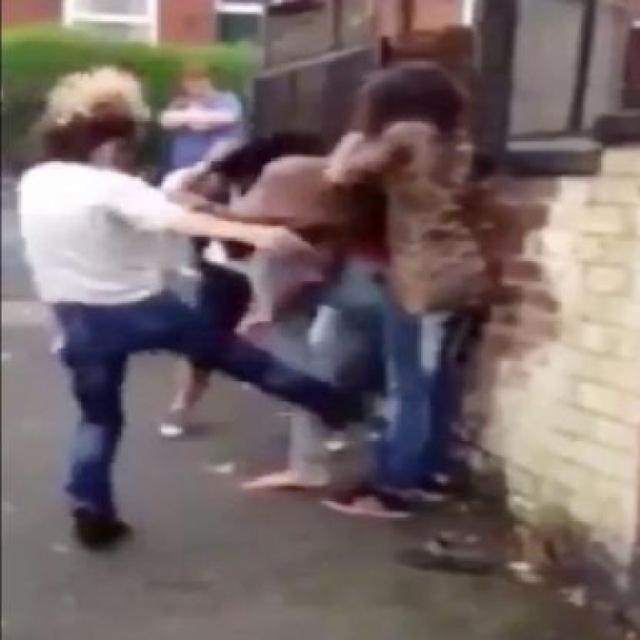fight: (29, 20, 608, 554)
